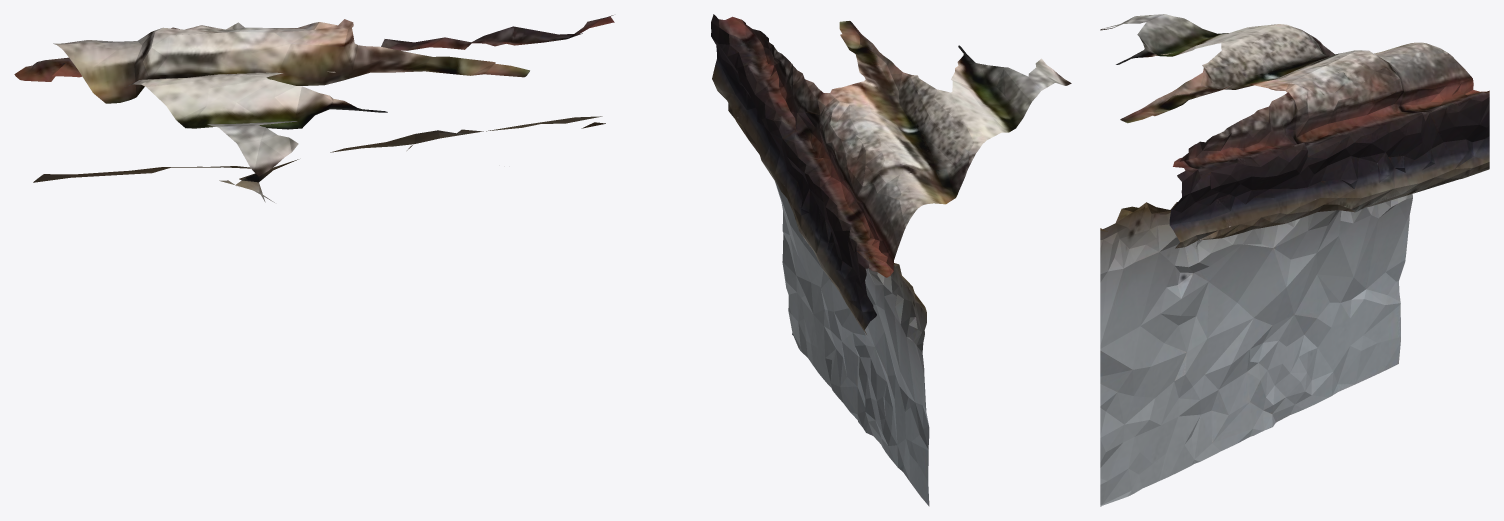
3 views of the same model, side by side, from view 1: azimuth 30°, elevation 25°; view 2: azimuth 150°, elevation 25°; view 3: azimuth 270°, elevation 25° (orthographic). The views are drawn at different scales.
Size of the model in its own units: 0.8373 by 0.8374 by 0.8374.
Materials: 4 (4 with a texture image).
